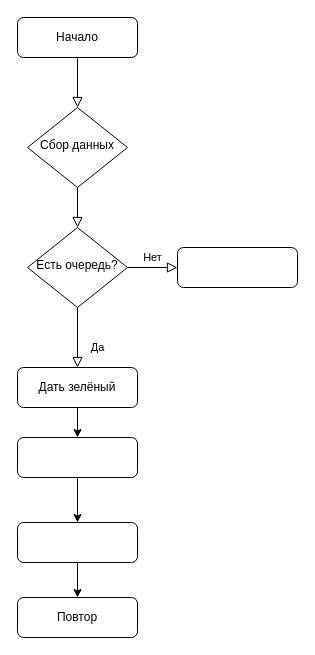
Image size: 315x655. Some labels were removed from this diagram. Here are the shapes that lost their labels. From the top down, the box of each, then its label:
(176, 246, 298, 288): Переключить фазу
(16, 436, 138, 478): Жёлтый
(16, 522, 138, 562): Красный
